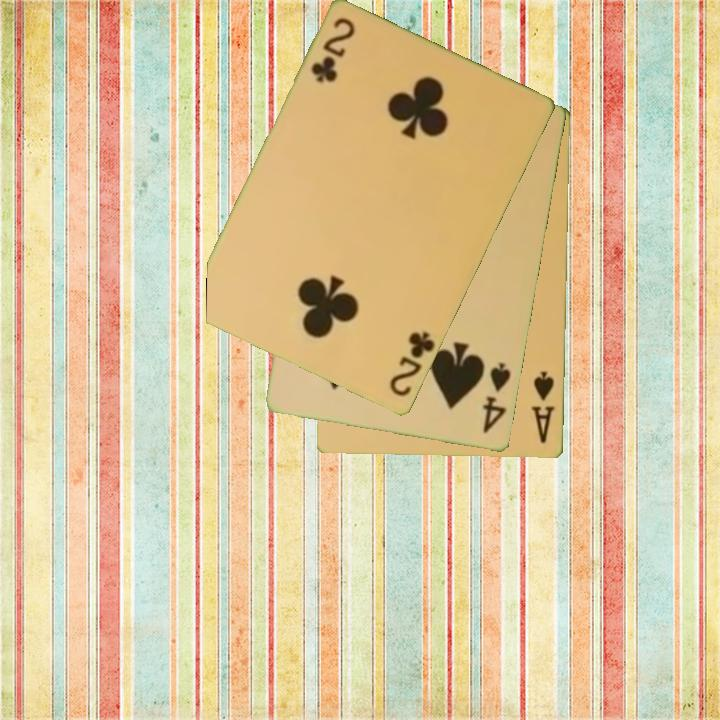2c: (386, 328, 438, 400), (308, 14, 358, 87)
4s: (479, 360, 514, 437)
As: (528, 368, 558, 446)
